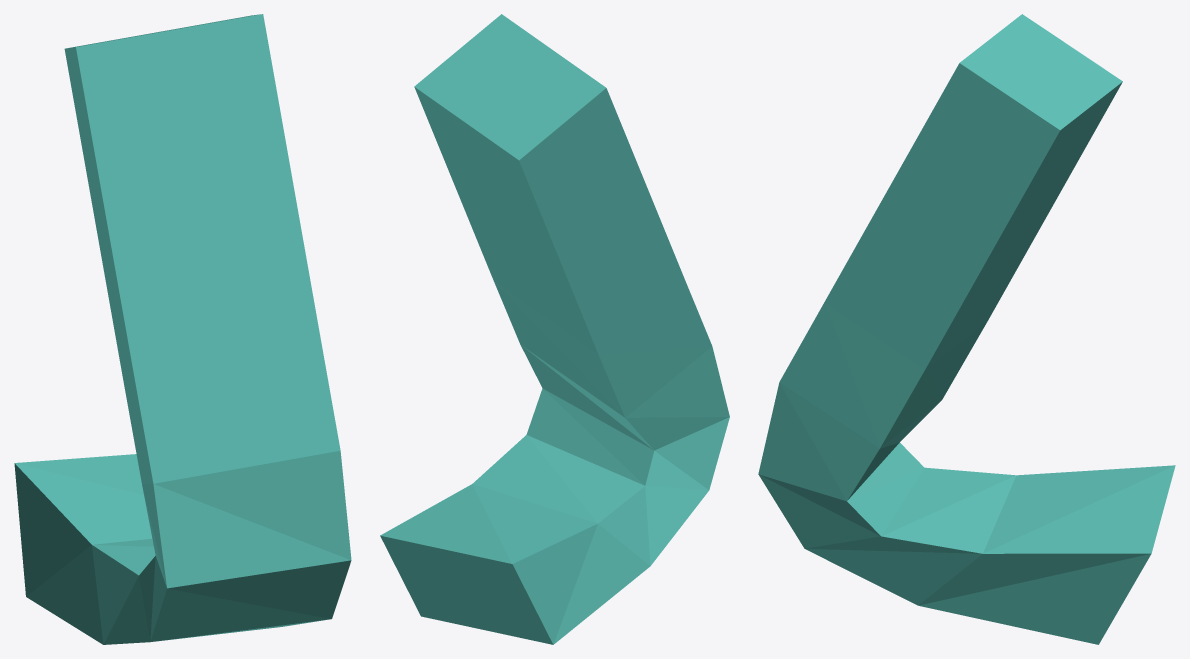
File: reduced-pose.glb
The picture shows the model from 3 angles, left to right: view 1: azimuth 30°, elevation 25°; view 2: azimuth 150°, elevation 25°; view 3: azimuth 270°, elevation 25°; orthographic projection. The views are drawn at different scales.
Parts seen in each view (by area): view 1: Target flexible sculpture · 当前姿态; view 2: Target flexible sculpture · 当前姿态; view 3: Target flexible sculpture · 当前姿态.
Boxes of the visible parts, x1,y1,x2,y2 form: Target flexible sculpture · 当前姿态: (14, 14, 351, 644); Target flexible sculpture · 当前姿态: (380, 14, 729, 644); Target flexible sculpture · 当前姿态: (758, 14, 1175, 644).
Size of the model in its own units: 1 by 2.73 by 1.79.
